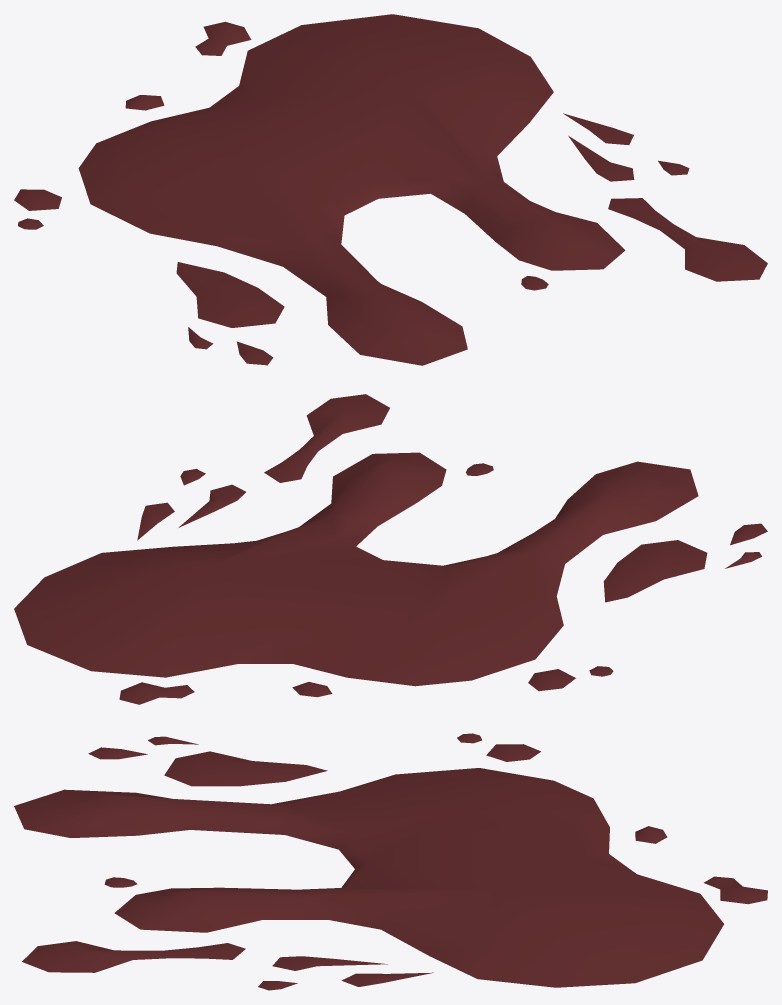
The model's file is Blood 03.fbx.
3 views of the same model, one above another, from view 1: azimuth 30°, elevation 25°; view 2: azimuth 150°, elevation 25°; view 3: azimuth 270°, elevation 25° (orthographic). The views are drawn at different scales.
Parts seen in each view (by area): view 1: Blood_03; view 2: Blood_03; view 3: Blood_03.
Part boxes in pixels (bbox=[...]): Blood_03: bbox=[14, 14, 767, 365]; Blood_03: bbox=[14, 394, 767, 704]; Blood_03: bbox=[14, 733, 767, 990].
Size of the model in its own units: 38.2 by 2.04 by 47.35.
